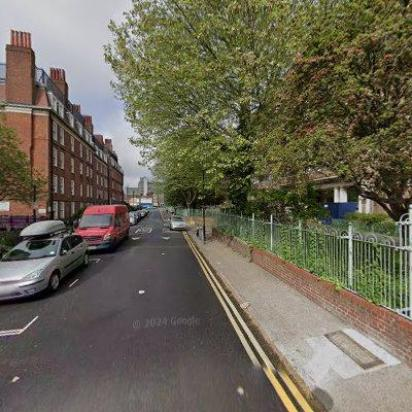stationary-car-onstreet: (0, 220, 90, 302), (169, 214, 187, 230), (125, 210, 137, 226)
stationary-light-truck-onstreet: (72, 203, 128, 254)
